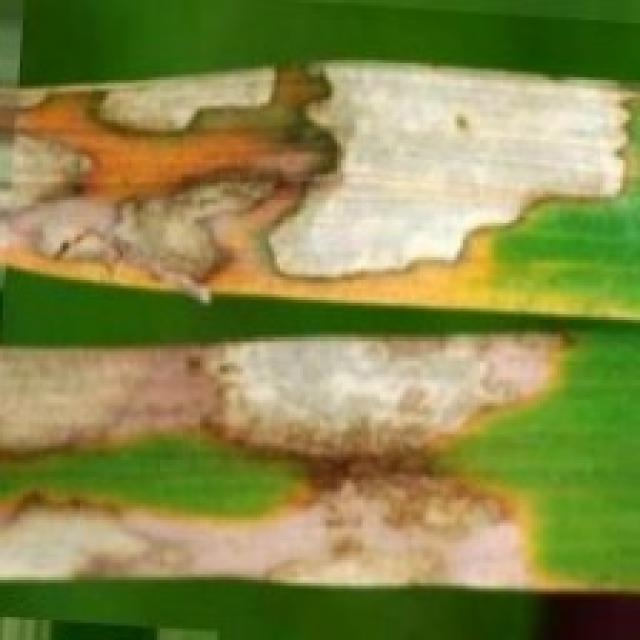Bacterial_Blight: (273, 50, 640, 285), (0, 464, 593, 586), (0, 342, 583, 460), (2, 48, 252, 317)
